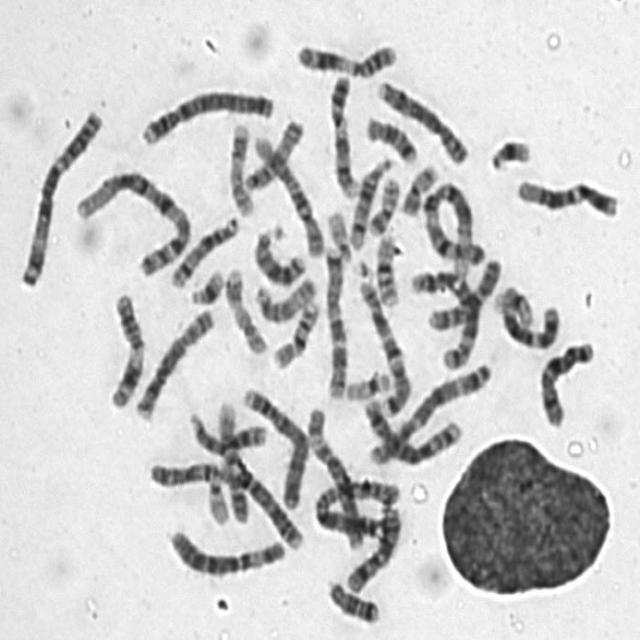A1: (68, 159, 195, 280), (417, 174, 485, 268)
A2: (140, 449, 306, 551), (308, 471, 404, 541)
A3: (12, 99, 105, 288), (361, 352, 495, 468)
B4: (234, 376, 309, 511), (133, 80, 277, 148)
B5: (405, 260, 480, 372), (358, 392, 464, 466)
C10: (247, 123, 326, 258), (422, 250, 505, 332)
C11: (102, 283, 146, 411), (289, 32, 400, 80)
C12: (509, 168, 621, 220), (492, 281, 562, 351)
C6: (301, 398, 367, 549), (162, 519, 289, 579)
C7: (352, 269, 415, 417), (318, 236, 350, 402)
C8: (129, 298, 217, 421), (369, 70, 471, 166)
C9: (211, 391, 251, 526), (322, 64, 361, 200)
D13: (246, 216, 308, 286), (184, 404, 269, 455)
D14: (164, 207, 242, 289), (343, 146, 397, 249)
D15: (237, 110, 306, 194), (248, 268, 320, 325)
E16: (265, 289, 322, 371), (370, 222, 402, 309)
E17: (218, 258, 270, 356), (222, 114, 258, 218)
E18: (358, 106, 421, 166), (320, 570, 382, 626)
F19: (488, 277, 538, 328), (339, 360, 393, 403)
F20: (396, 154, 442, 217), (362, 167, 403, 237)
G21: (482, 128, 534, 172), (183, 259, 226, 306)
G22: (320, 199, 354, 264), (201, 465, 232, 527)
X: (532, 330, 597, 430), (341, 498, 404, 594)
